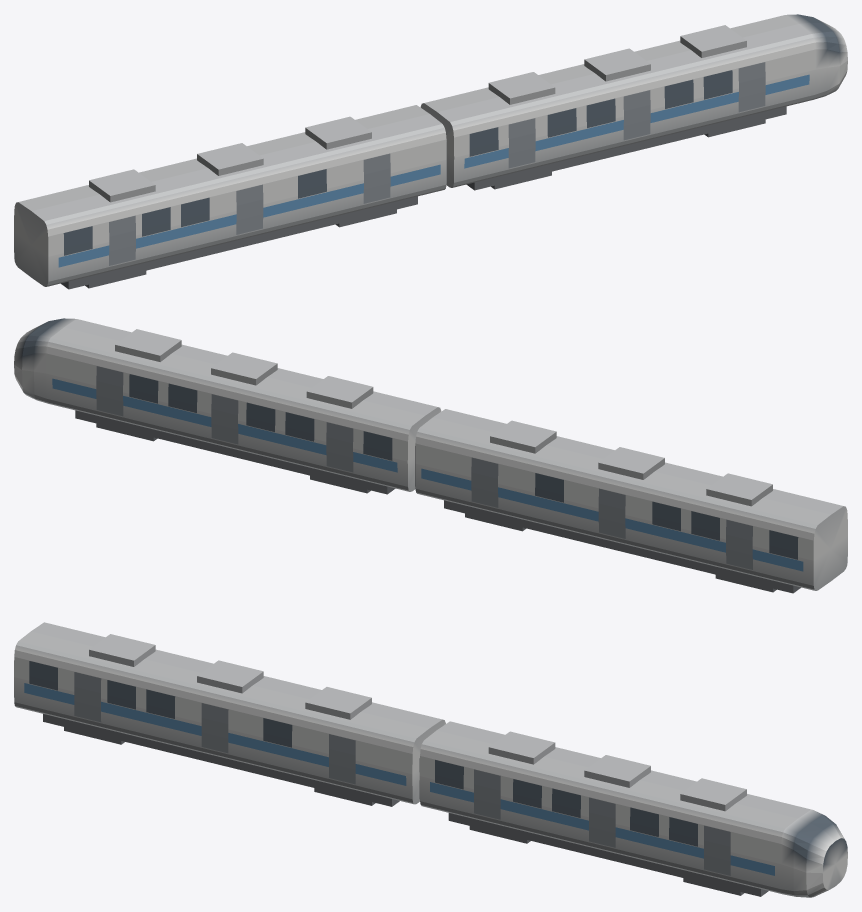
Rendered from 01_TRA_modern_3x2-04.glb.
3 renders of one model, top to bottom at view 1: azimuth 30°, elevation 25°; view 2: azimuth 150°, elevation 25°; view 3: azimuth 330°, elevation 25°, orthographic.
Bounding box in the file's own units: 39.16 × 3.98 × 2.94.
